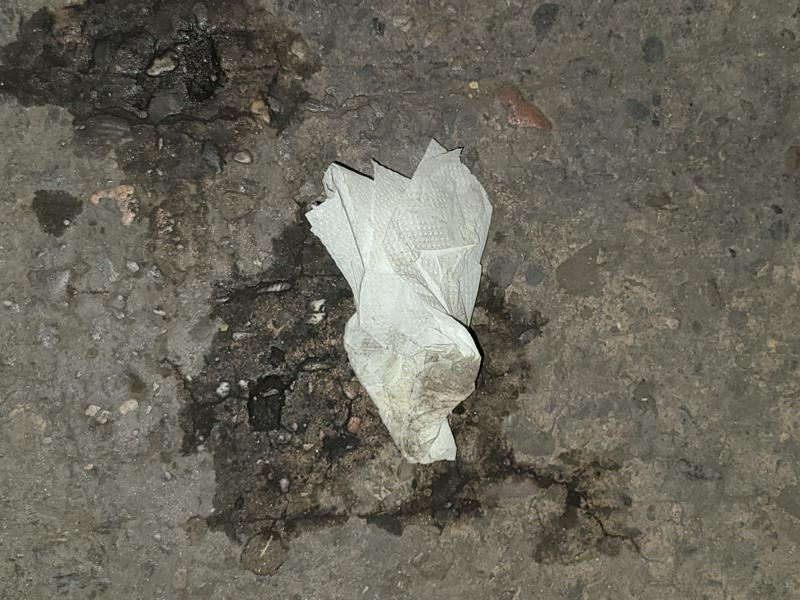papel: (307, 143, 495, 468)
